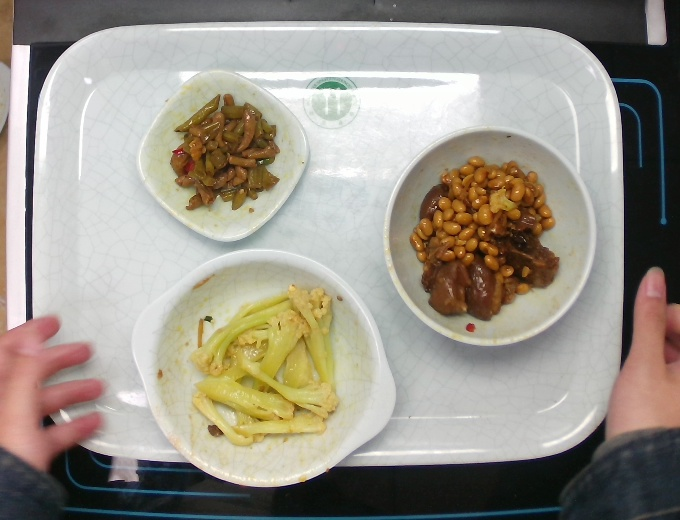JYsf-Fan_Wan: (377, 125, 605, 352)
JYsf-Shuang_Er_Wan: (125, 243, 399, 494)
JYsf-Si_Fang_Die: (133, 65, 313, 247)
